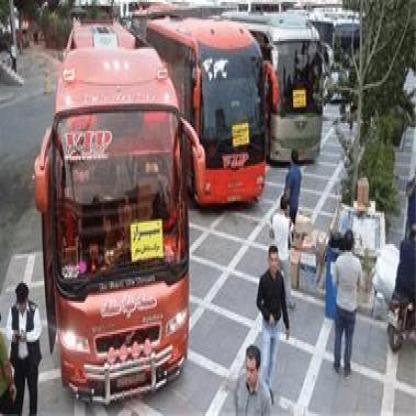Bus: (37, 51, 189, 402), (141, 10, 271, 199), (254, 8, 330, 164)
